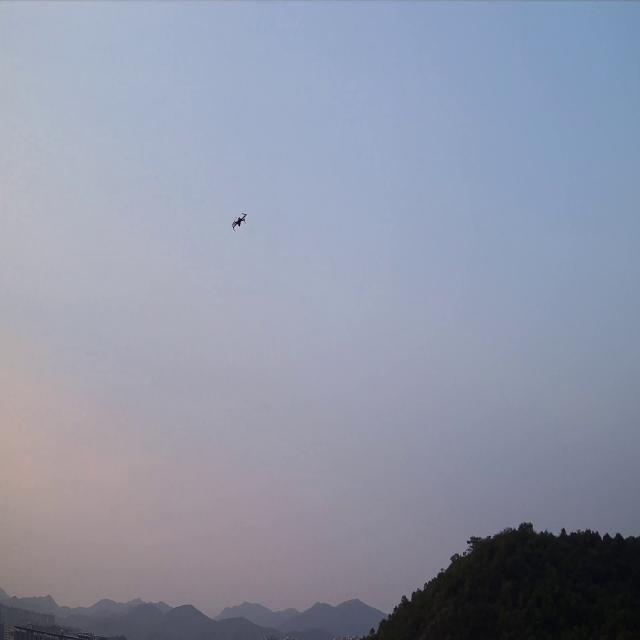UAV: (231, 212, 247, 232)
